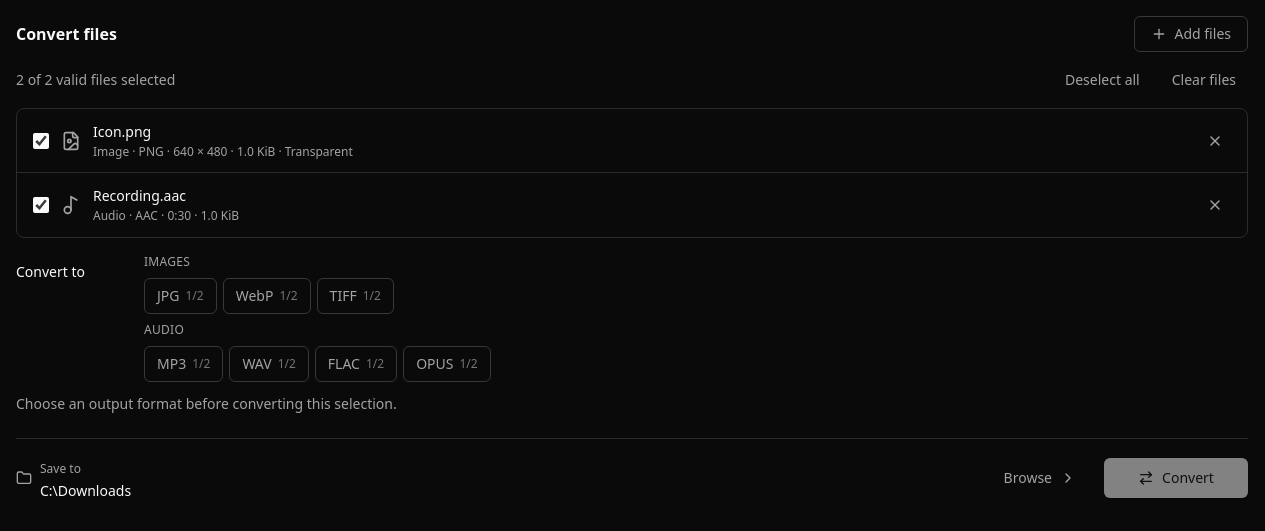
Test: conversion defaults and explicit choices › keeps offline image conversion available after an explicit choice in a mixed batch
Expected: the button "Convert" is disabled, [1104,458,1248,498]
Click the radio button labelled "WebP 1/2" at (267, 296), box [223,278,311,314]
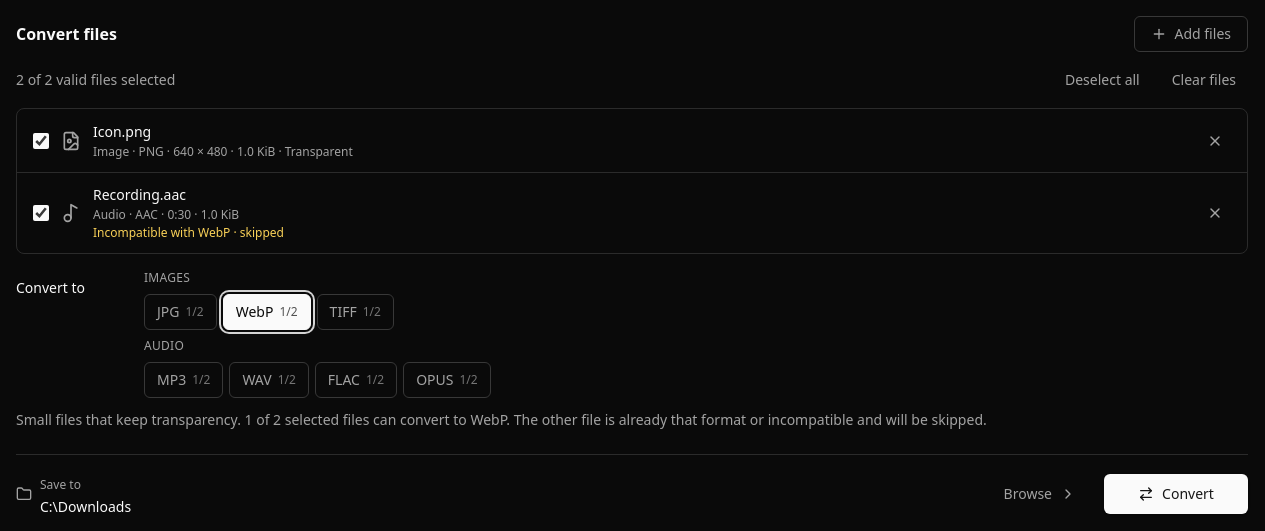
Expected: the radio button labelled "WebP 1/2" is shown, [223,294,311,330]
Result: the button "Convert" is enabled at [1104,474,1248,514]
